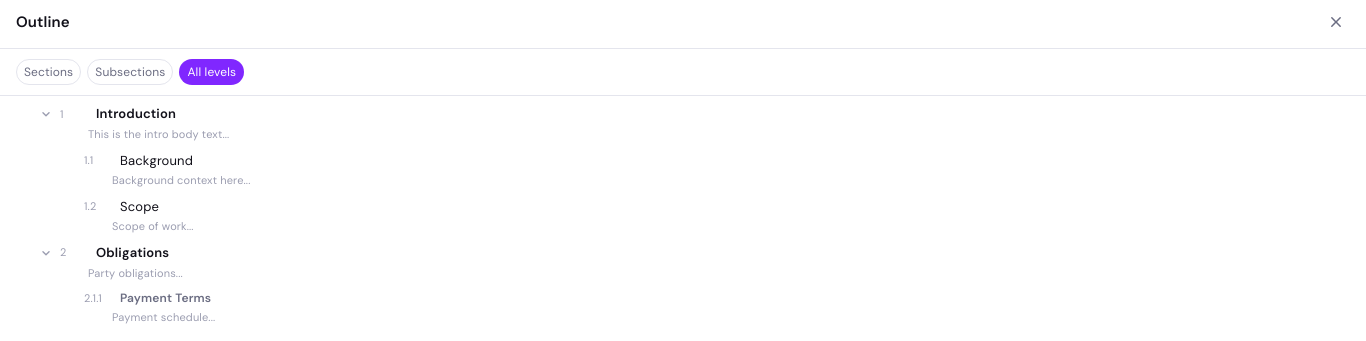
OutlineView › collapse chevron toggles child entries visibility
Expected: the text "Background" is shown, [120,152,193,168]
Click the button with test id "collapse-toggle-0": click(46, 114) [36,104,56,124]
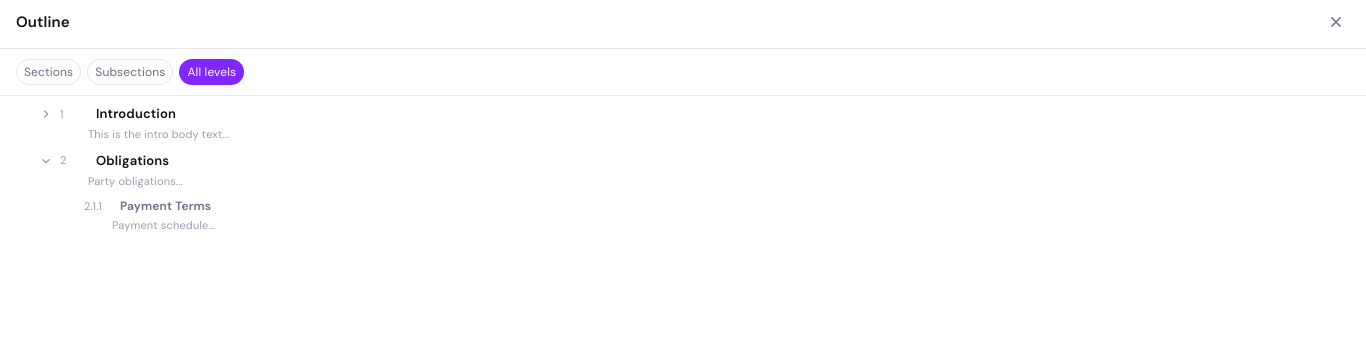
Now the text "Background" is gone
Now the text "Scope" is gone
